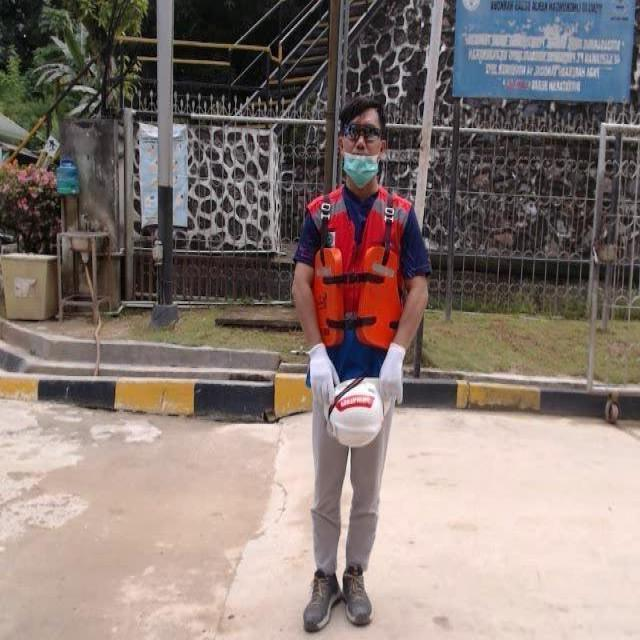gloves: (304, 343, 339, 404), (376, 341, 406, 404)
goggles: (340, 122, 385, 143)
helmet: (323, 378, 392, 449)
safety_vest: (305, 186, 410, 390)
